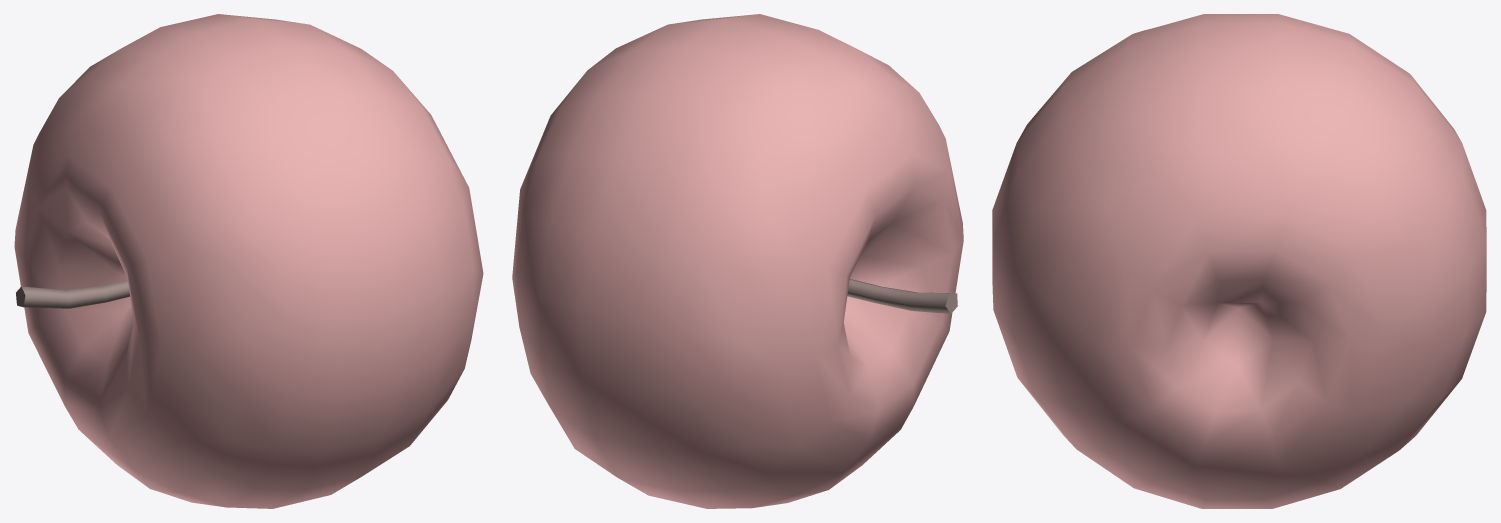
The model's file is Wheel_Large_Apple_01.fbx.
3 views of the same model, side by side, from view 1: azimuth 30°, elevation 25°; view 2: azimuth 150°, elevation 25°; view 3: azimuth 270°, elevation 25° (orthographic).
Parts seen in each view (by area): view 1: WH_Apple; view 2: WH_Apple; view 3: WH_Apple.
Part boxes in pixels (x1=…): WH_Apple: x1=14, y1=14, x2=483, y2=508; WH_Apple: x1=512, y1=14, x2=963, y2=508; WH_Apple: x1=992, y1=14, x2=1486, y2=508.
Size of the model in its own units: 140 by 148 by 148.
